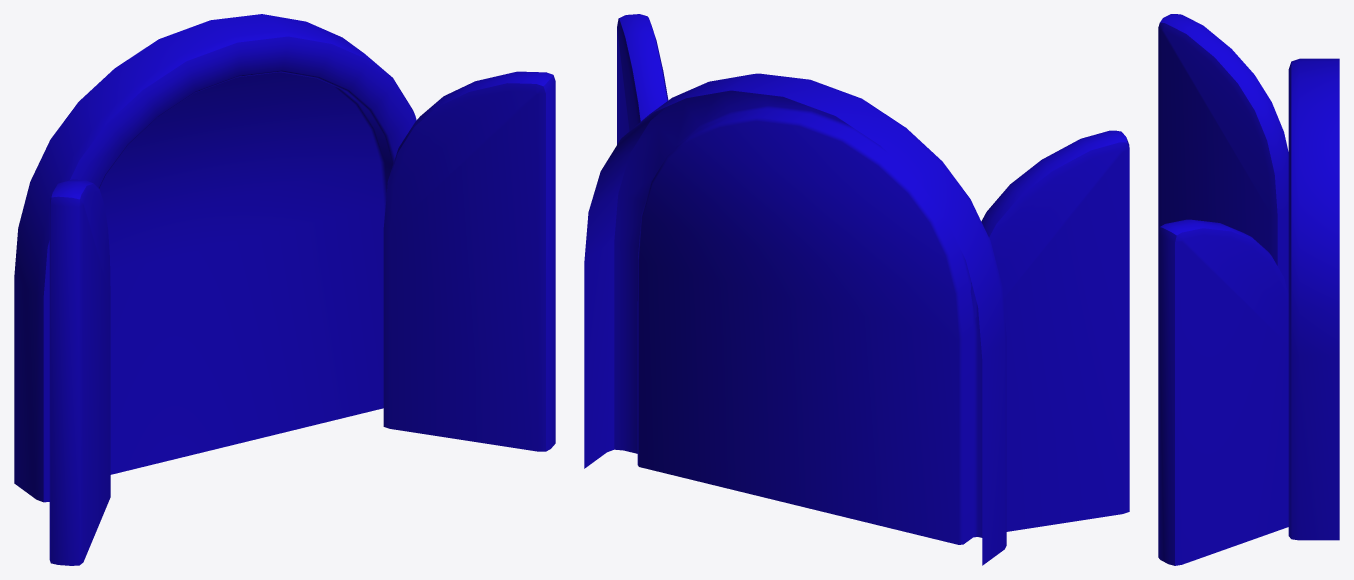
File: SM_DoorBig.fbx
The picture shows the model from 3 angles, left to right: view 1: azimuth 30°, elevation 25°; view 2: azimuth 150°, elevation 25°; view 3: azimuth 270°, elevation 25°; orthographic projection. The views are drawn at different scales.
Parts seen in each view (by area): view 1: SM_DoorBig; view 2: SM_DoorBig; view 3: SM_DoorBig.
Boxes of the visible parts, x1,y1,x2,y2 form: SM_DoorBig: (14,14,555,565); SM_DoorBig: (584,14,1129,565); SM_DoorBig: (1158,14,1339,565).
Bounding box in the file's own units: 514 × 404 × 177.
